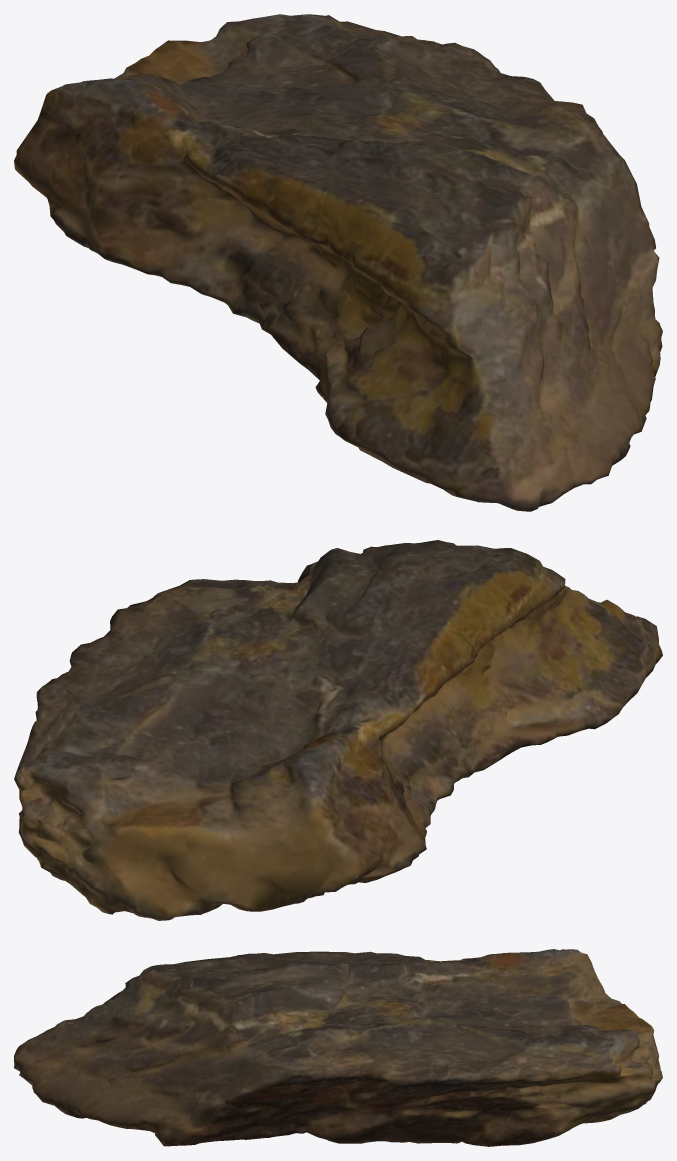
File: NAT_Rock09.glb
The picture shows the model from 3 angles, top to bottom: view 1: azimuth 30°, elevation 25°; view 2: azimuth 150°, elevation 25°; view 3: azimuth 270°, elevation 25°; orthographic projection. The views are drawn at different scales.
Parts seen in each view (by area): view 1: rock_09_LOD0; view 2: rock_09_LOD0; view 3: rock_09_LOD0.
Part boxes in pixels (bbox=[...]): rock_09_LOD0: bbox=[14, 14, 662, 511]; rock_09_LOD0: bbox=[14, 540, 662, 920]; rock_09_LOD0: bbox=[14, 949, 662, 1146].
Bounding box in the file's own units: 0.074 × 0.0329 × 0.1446.
1 material, 1 textured.
